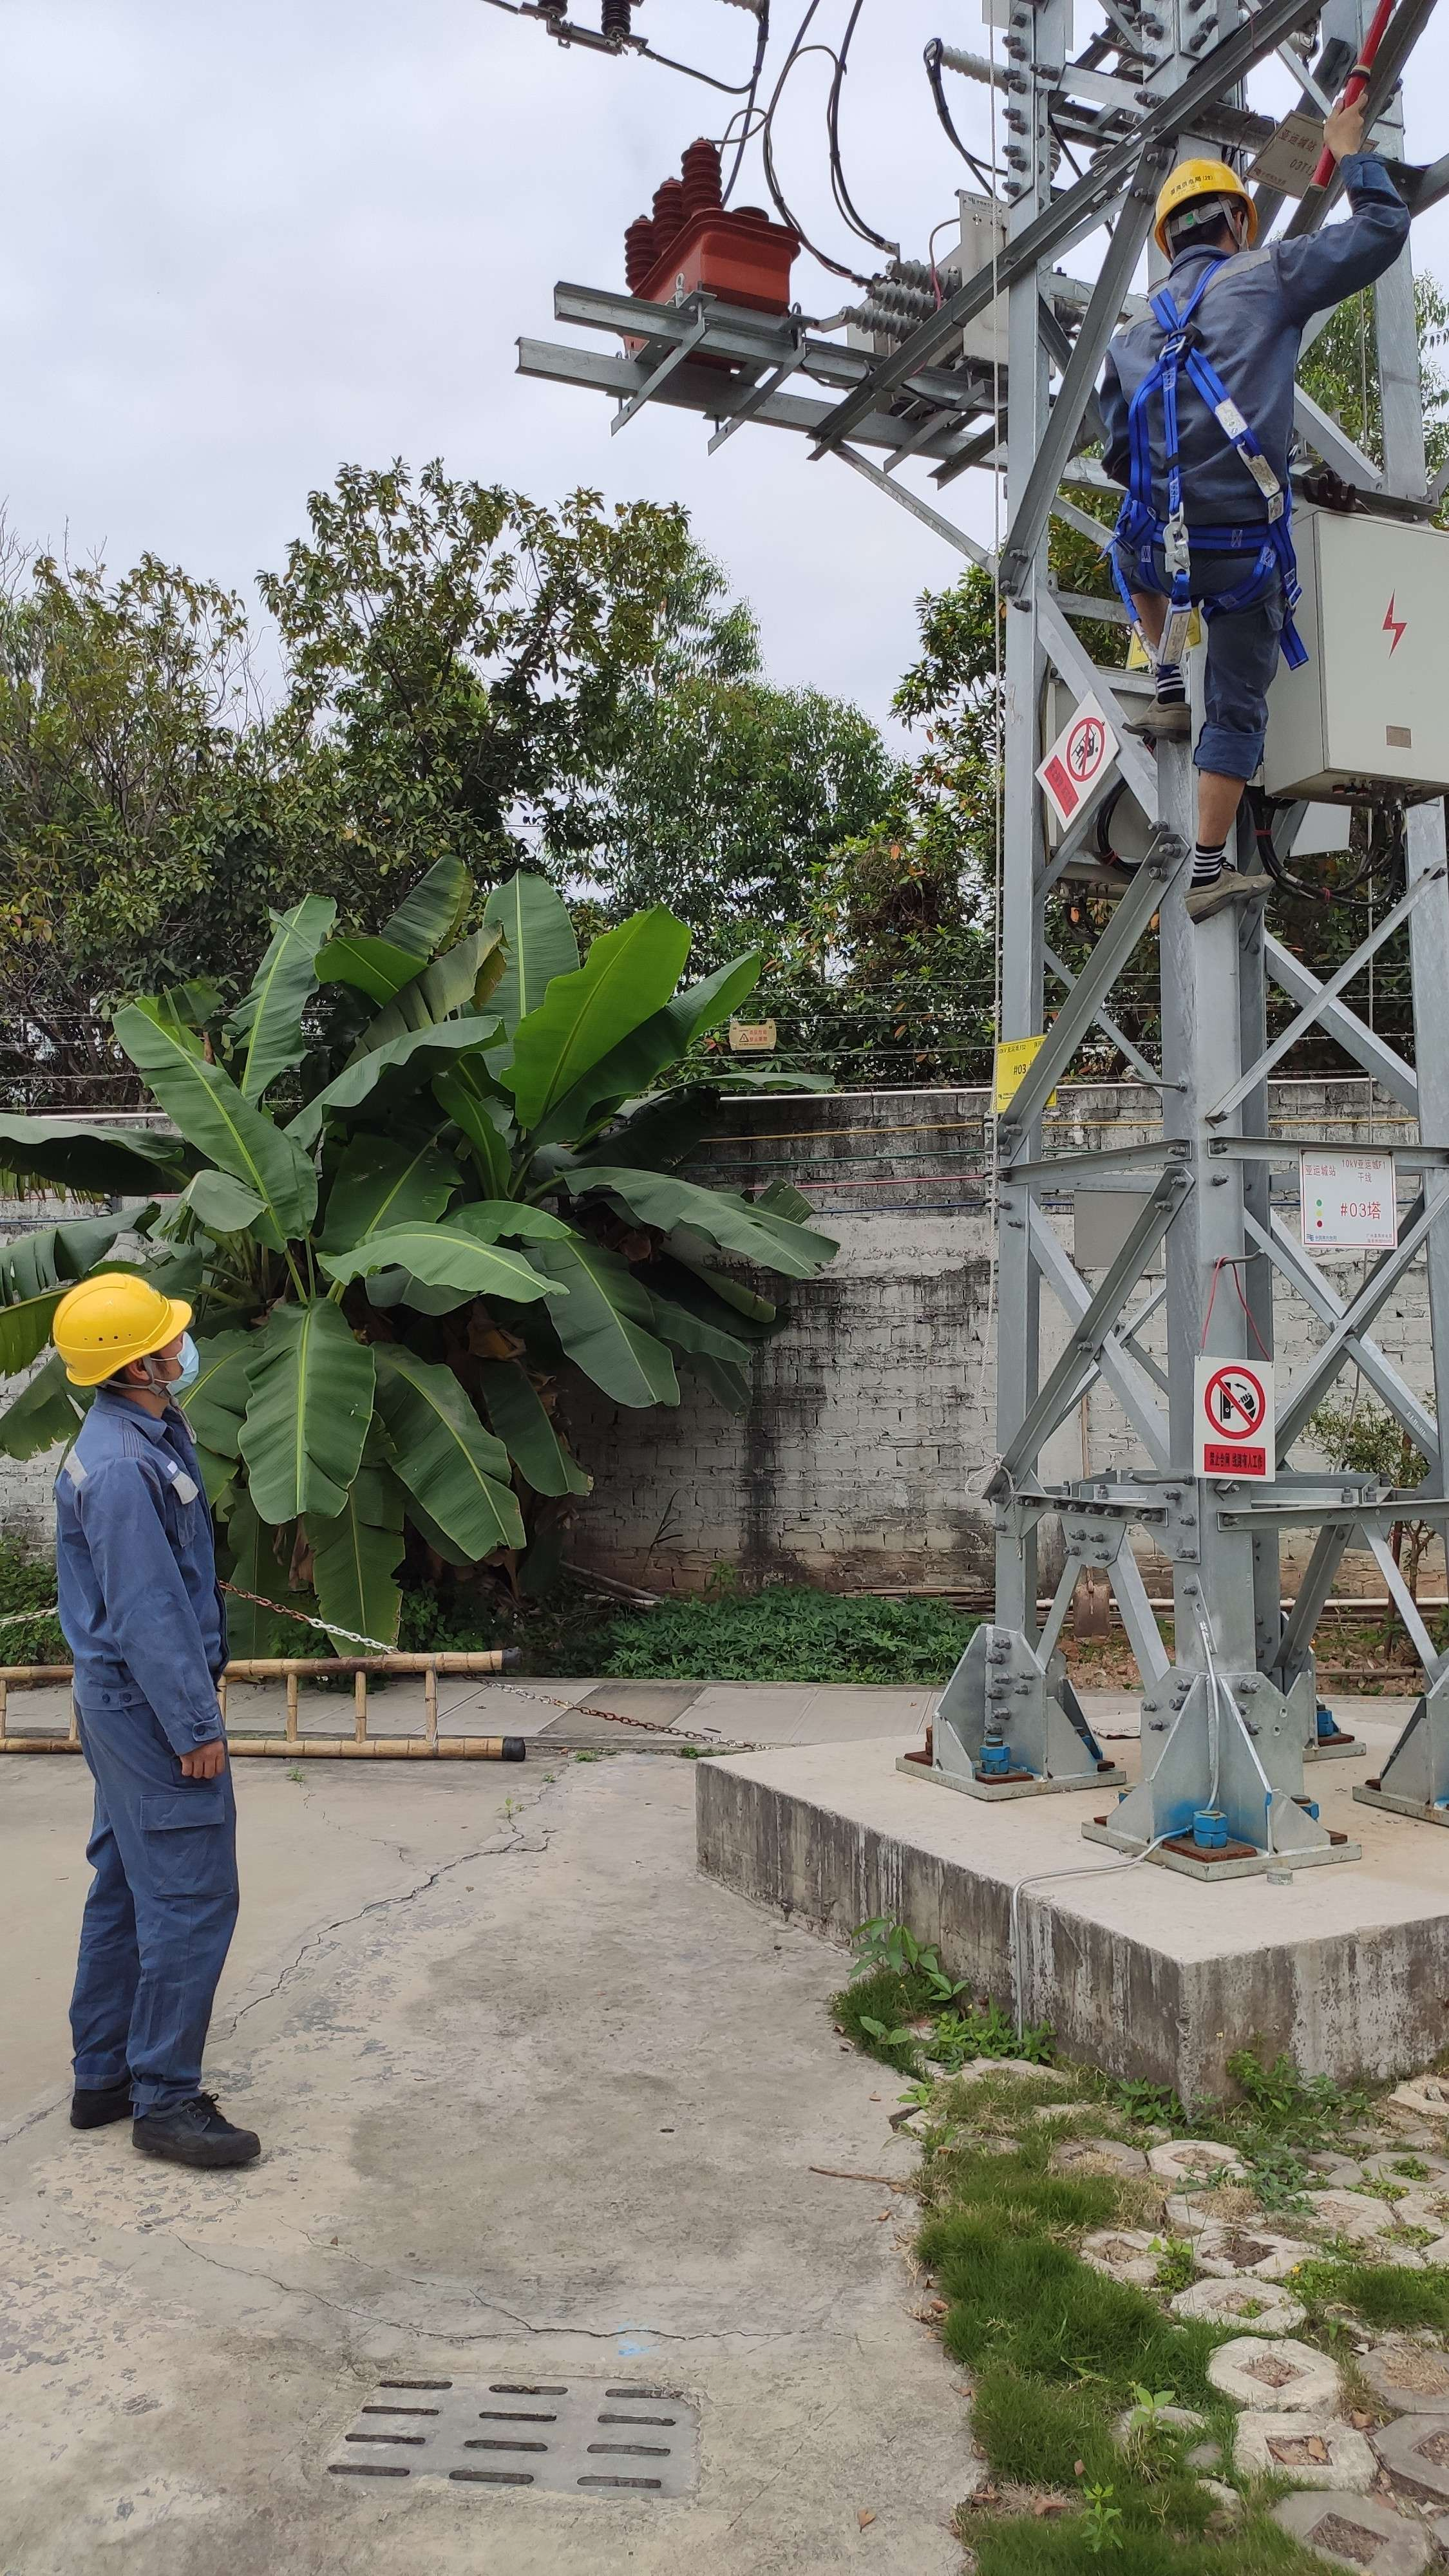downsuit: (71, 1730, 244, 2105), (1116, 545, 1288, 796)
upsuit: (1106, 262, 1306, 531), (57, 1419, 232, 1714)
wrongbottom: (1185, 740, 1263, 874), (1131, 584, 1184, 681)
